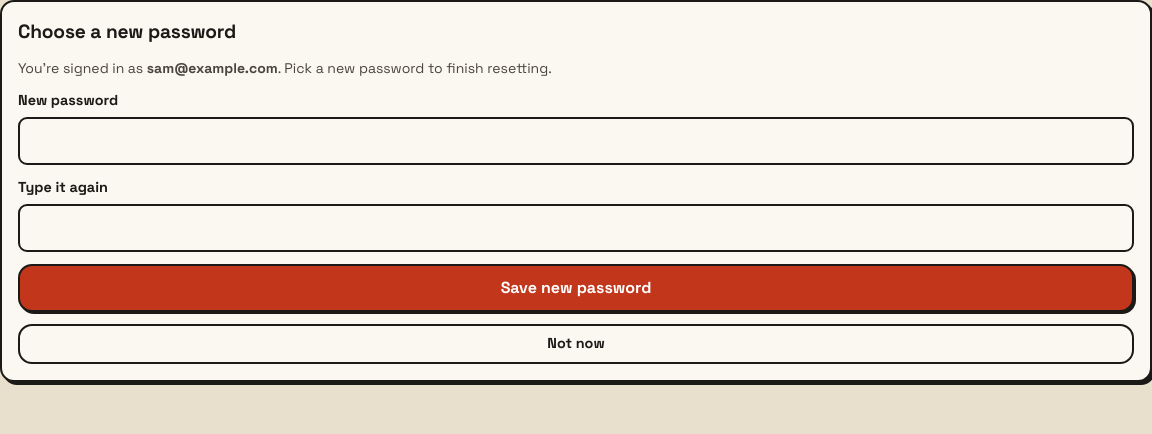
Test case: choosing a new password › shows the error if Supabase refuses the new password
In the password field labelled "New password": (576, 141) [18, 117, 1134, 165], type "samepassword1"
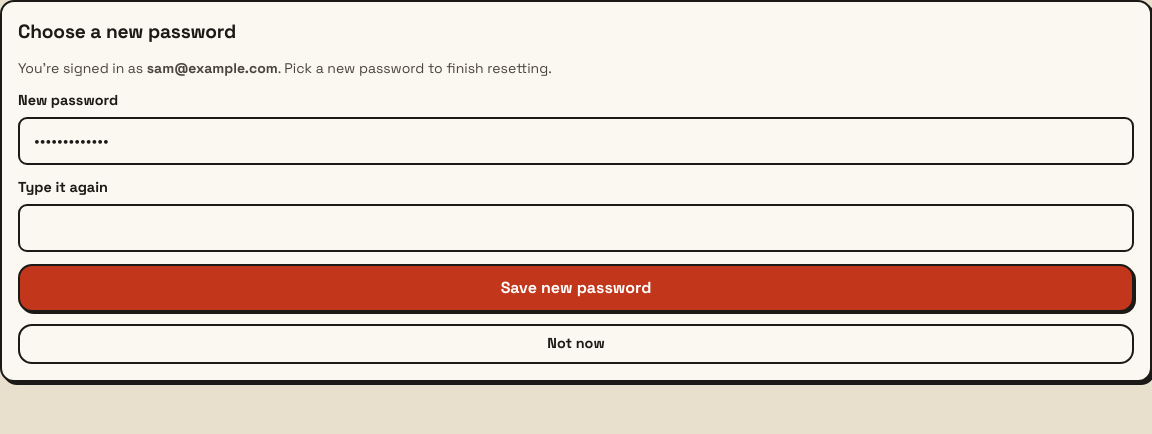
In the password field labelled "Type it again": (576, 228) [18, 204, 1134, 252], type "samepassword1"
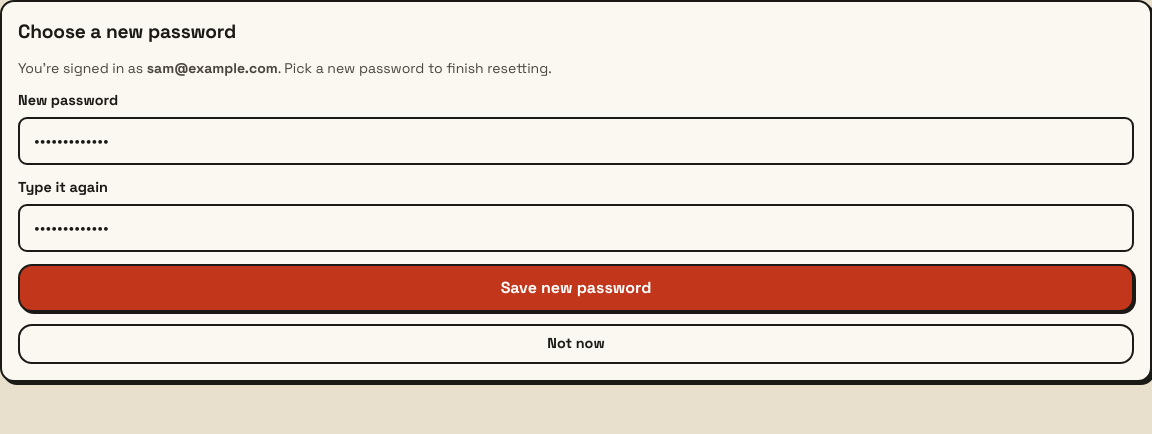
Click the button "Save new password": (576, 288) [18, 264, 1134, 312]
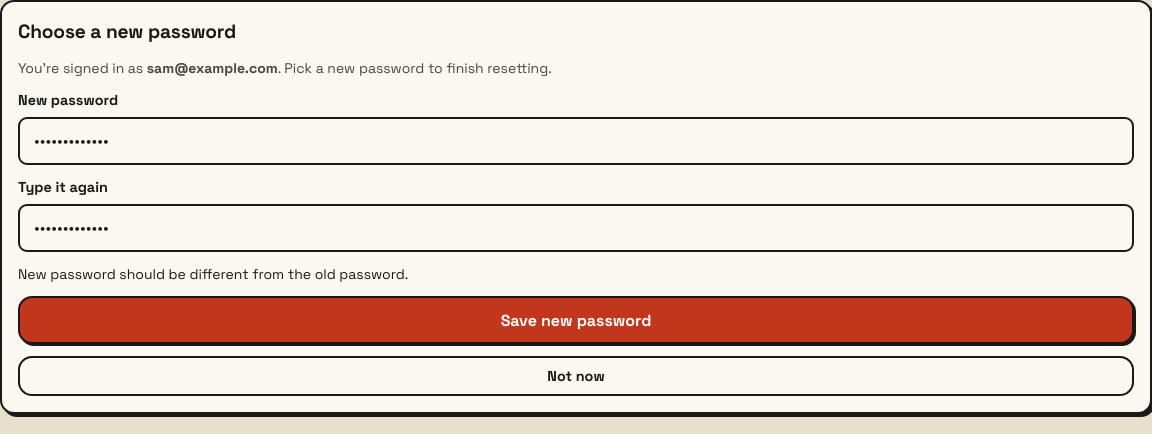
Expected: the message shows "should be different", [18, 265, 408, 283]
